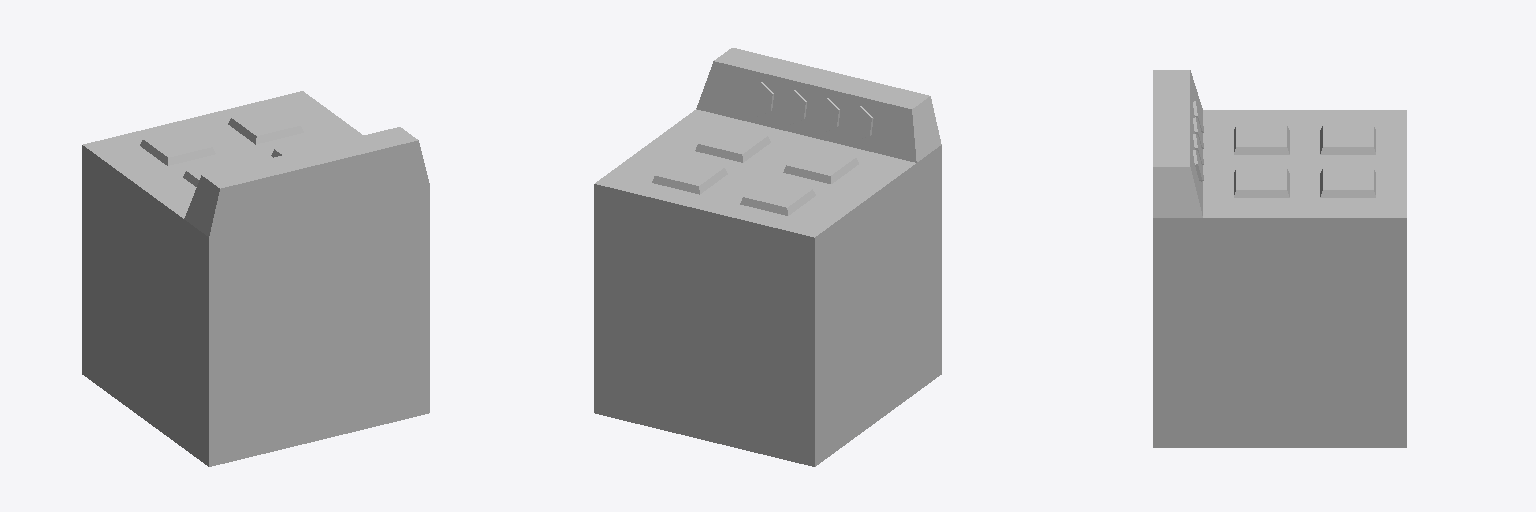
File: FM_oven.obj
3 renders of one model, left to right at view 1: azimuth 30°, elevation 25°; view 2: azimuth 150°, elevation 25°; view 3: azimuth 270°, elevation 25°, orthographic.
Visible parts, largest first — view 1: Oven_Cube.009; view 2: Oven_Cube.009; view 3: Oven_Cube.009.
Part boxes in pixels (x1,y1,x2,y2): Oven_Cube.009: (82,91,429,466); Oven_Cube.009: (594,48,941,466); Oven_Cube.009: (1153,70,1406,447).
Bounding box in the file's own units: 1 × 1.2 × 0.9963.